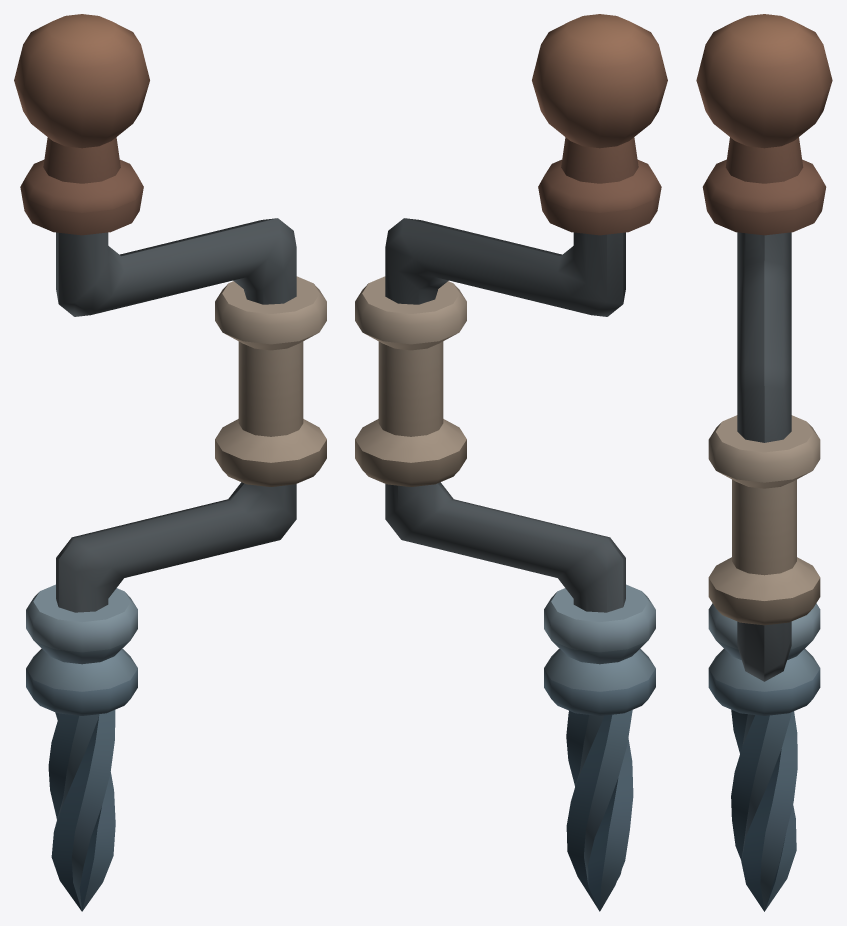
The model's file is handdrill.glb.
3 views of the same model, side by side, from view 1: azimuth 30°, elevation 25°; view 2: azimuth 150°, elevation 25°; view 3: azimuth 270°, elevation 25° (orthographic).
Parts seen in each view (by area): view 1: handdrill; view 2: handdrill; view 3: handdrill.
Boxes of the visible parts, left/top/right/bottom form: handdrill: left=14, top=14, right=326, bottom=911; handdrill: left=355, top=14, right=667, bottom=911; handdrill: left=696, top=14, right=832, bottom=911.
Bounding box in the file's own units: 0.2622 × 0.7512 × 0.1044.
1 material, 1 textured.
